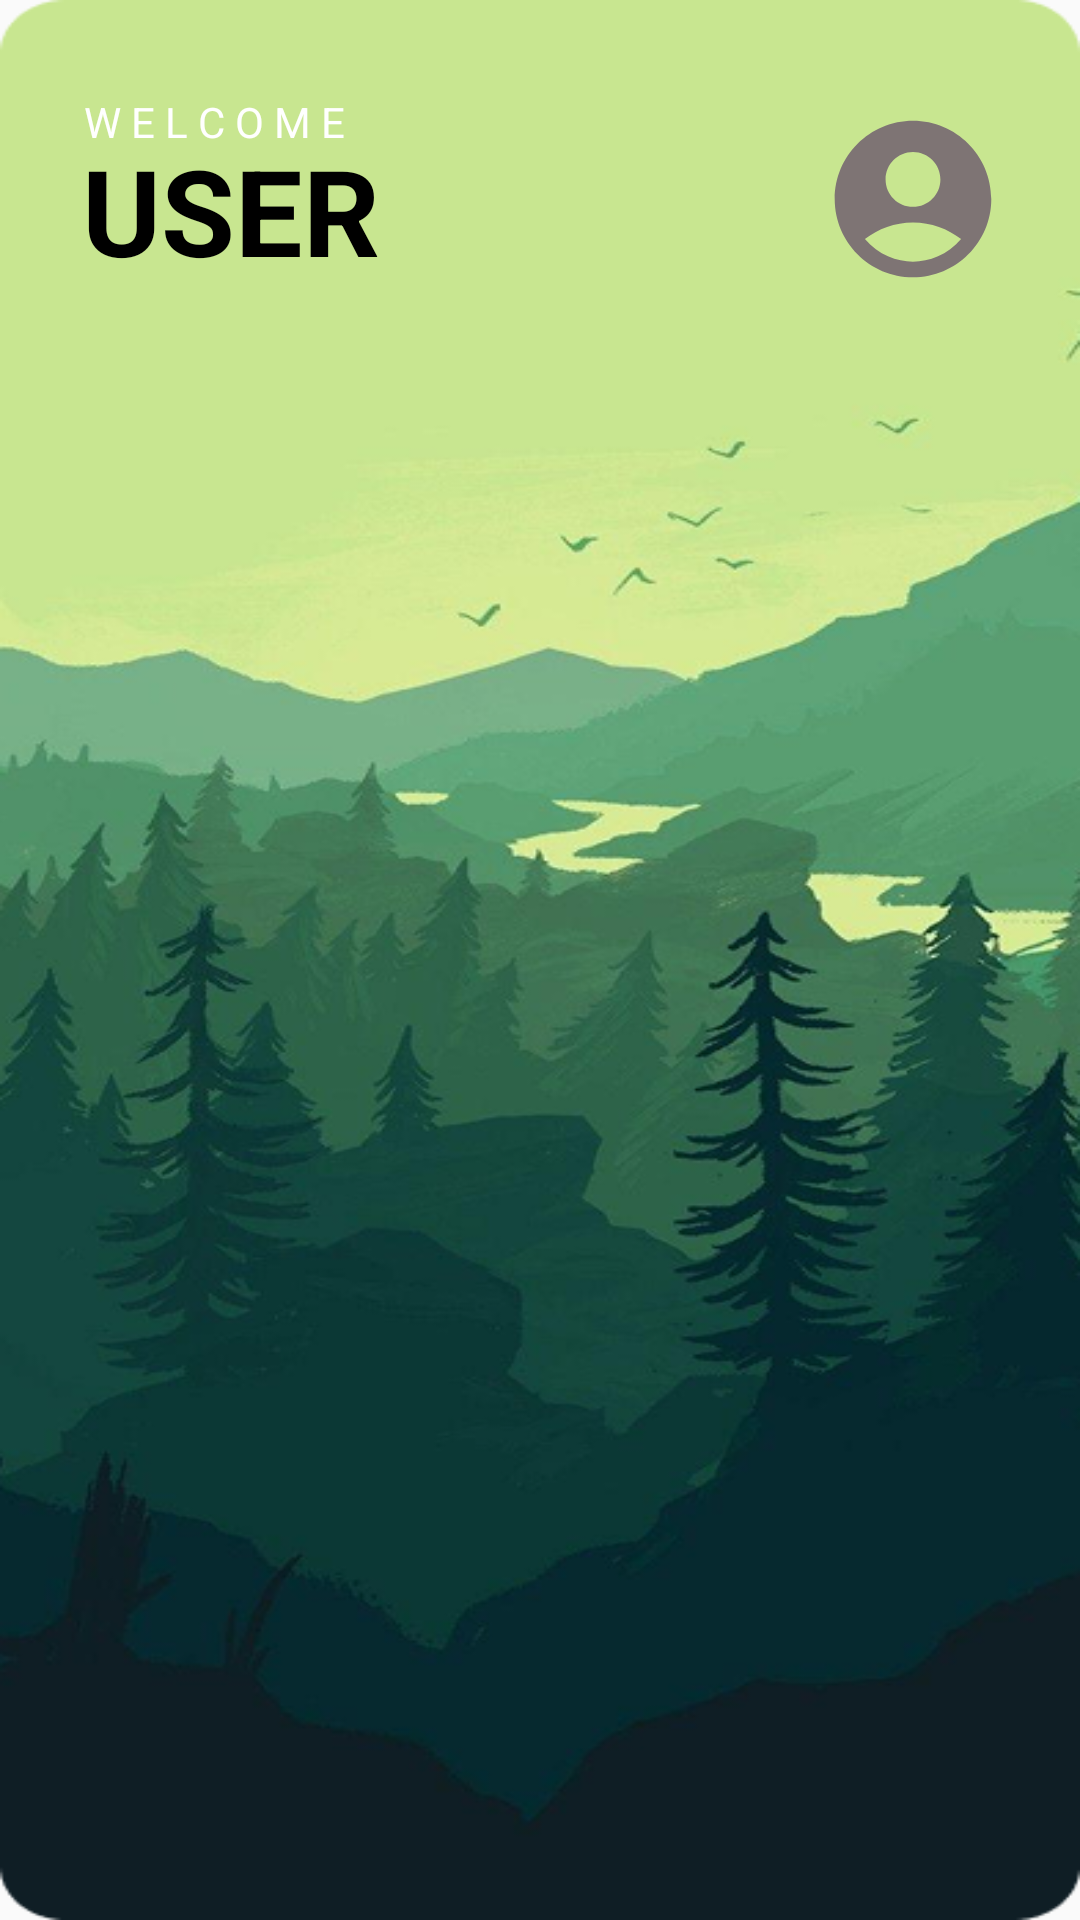

Icon bounding boxes for this 1080*1920 phone screenshot, format [x1=x1, y1=y1, x2=x2, y2=y2]:
contact: [x1=834, y1=120, x2=992, y2=278]
